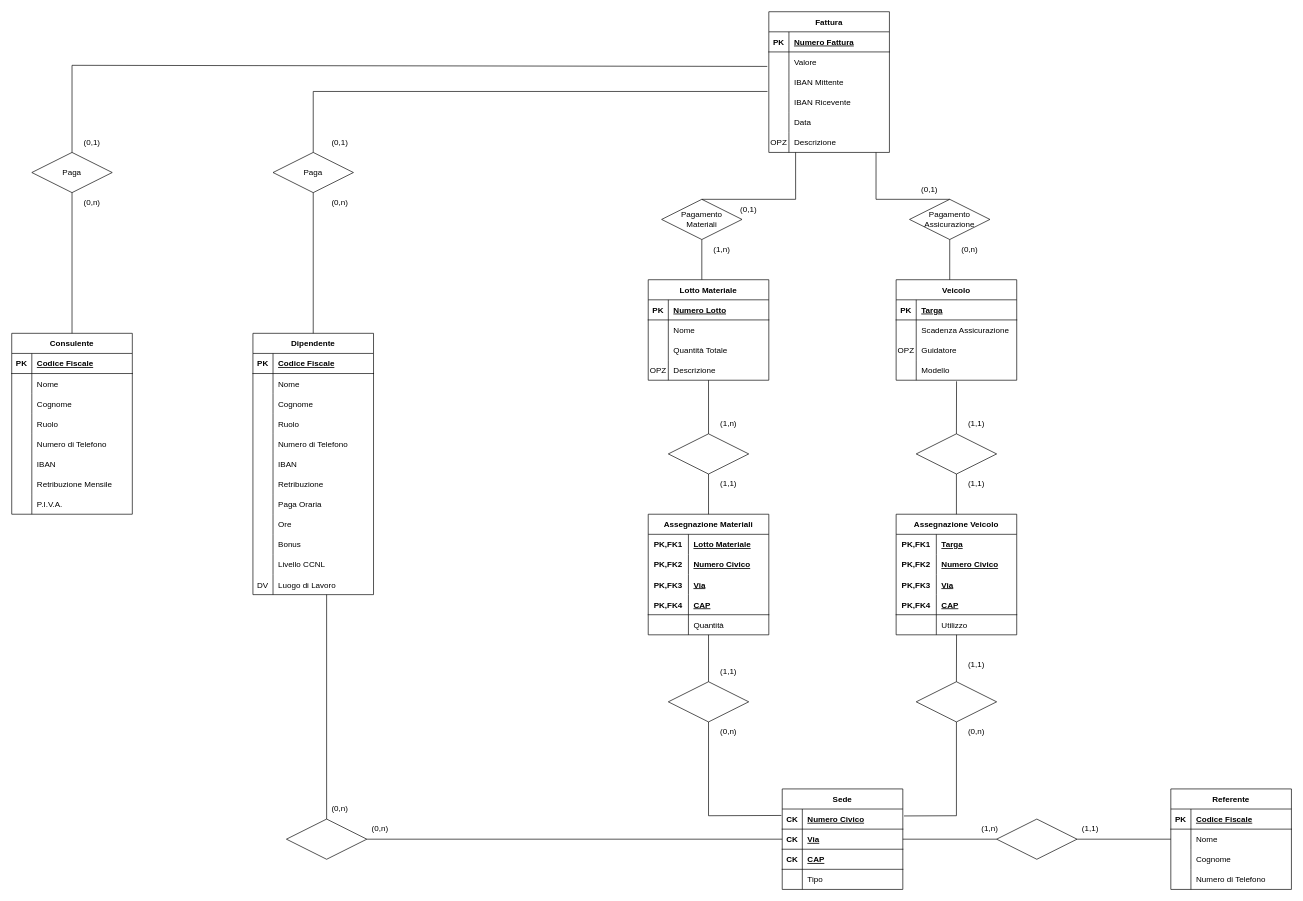
Some shapes in this 1303 by 901 pixel diagram are drawn without their labels. The centre of each missing label's shape, as x and y in pixels:
R1: (708,453)
R2: (708,701)
R3: (956,453)
R4: (956,701)
Referenza Cantiere: (1036,838)
Sede di Lavoro: (326,838)
